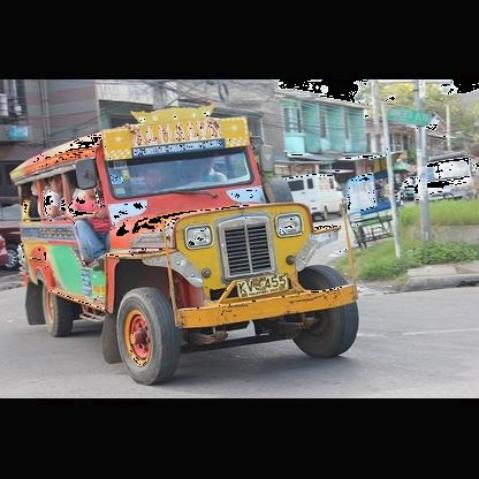jeepney: (12, 100, 371, 384)
